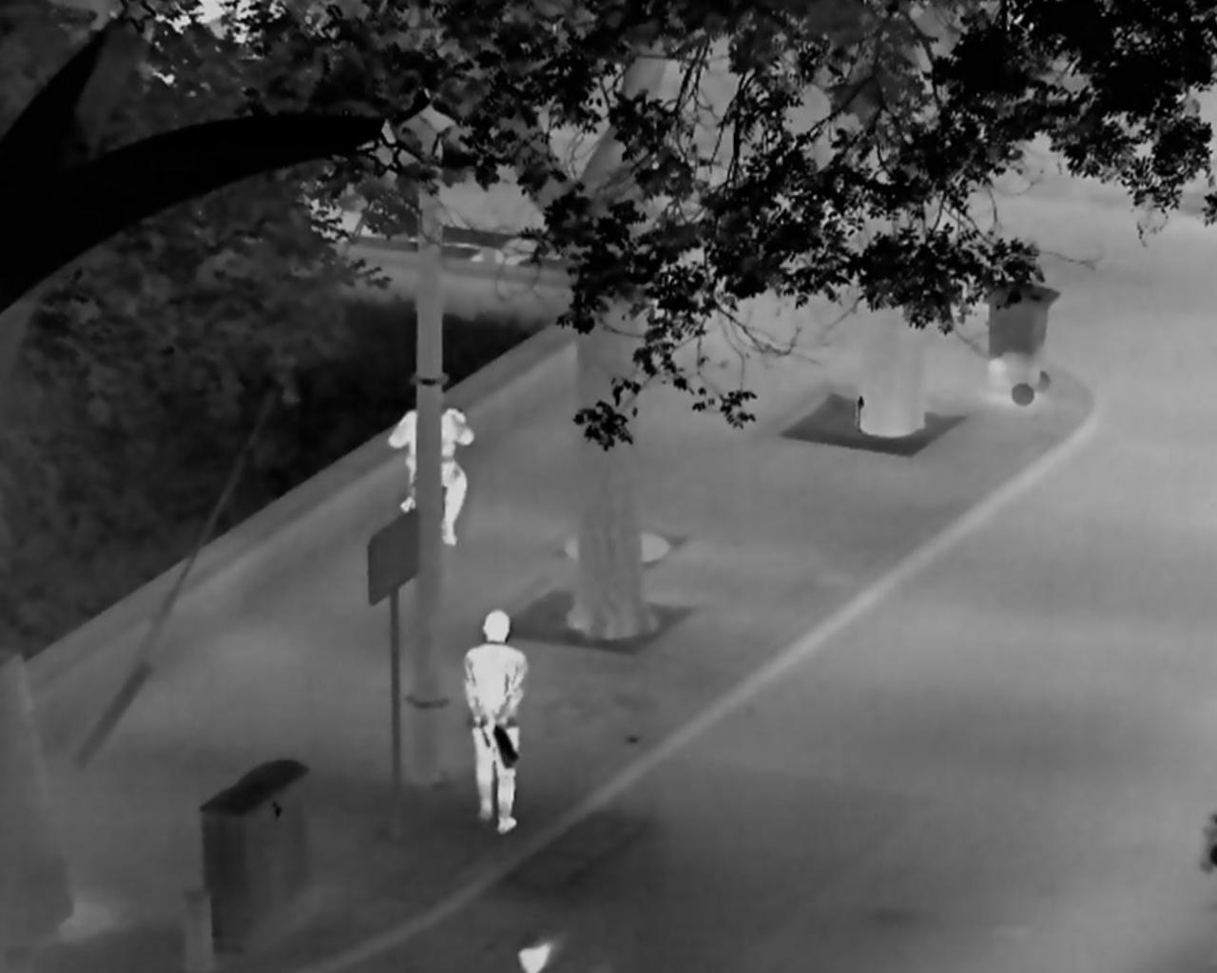person: (460, 607, 528, 834), (385, 405, 475, 549)
